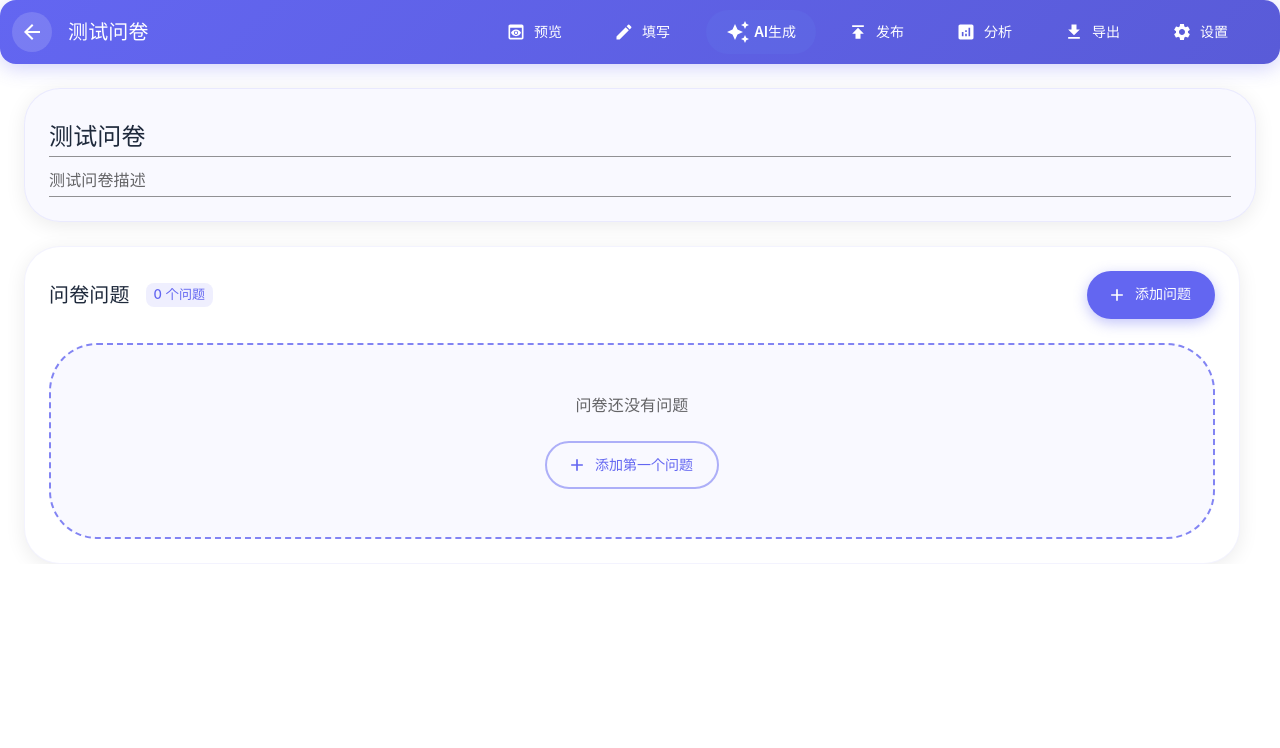
Scenario: QuestionnaireEditor › 测试视图切换功能 - 切换到设置
What coordinates should you click on to do the following:
click the button "设置"
I would click on:
 (1202, 32)
Its box is [1156,10,1248,54].
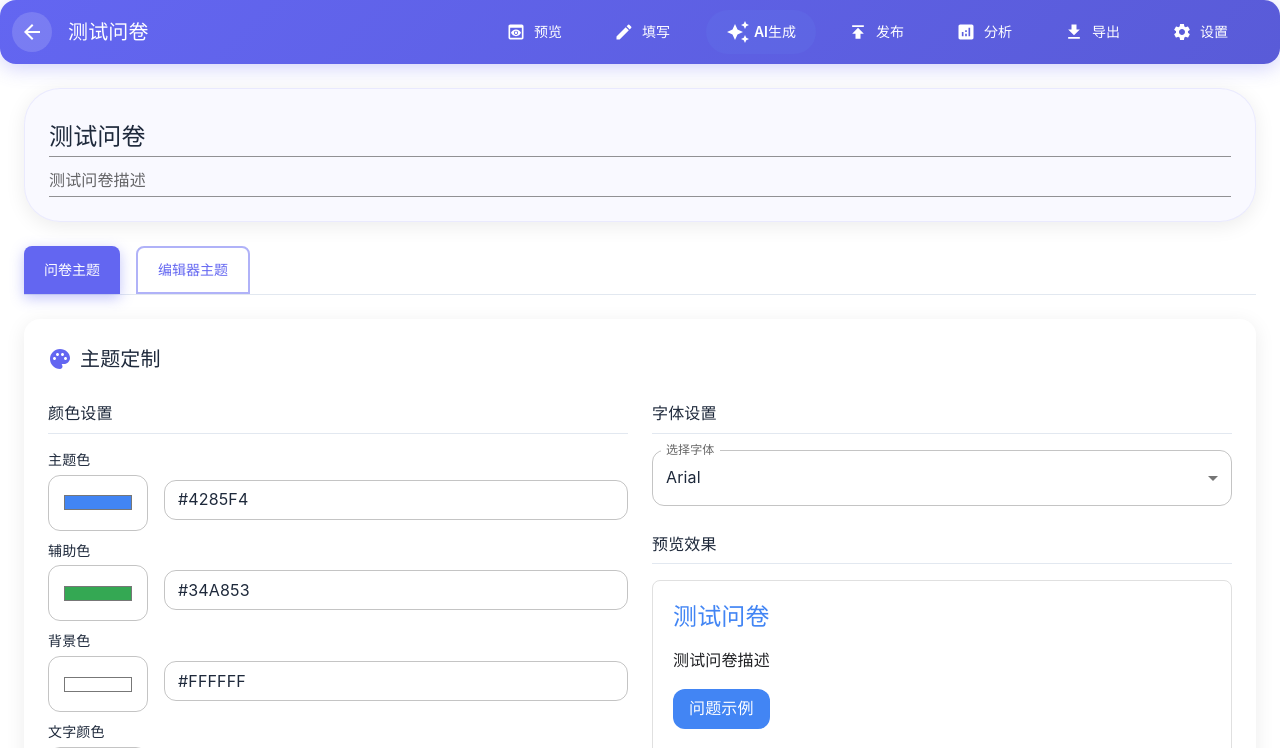
Result: the button "问卷主题" is shown at [24,246,120,294]
